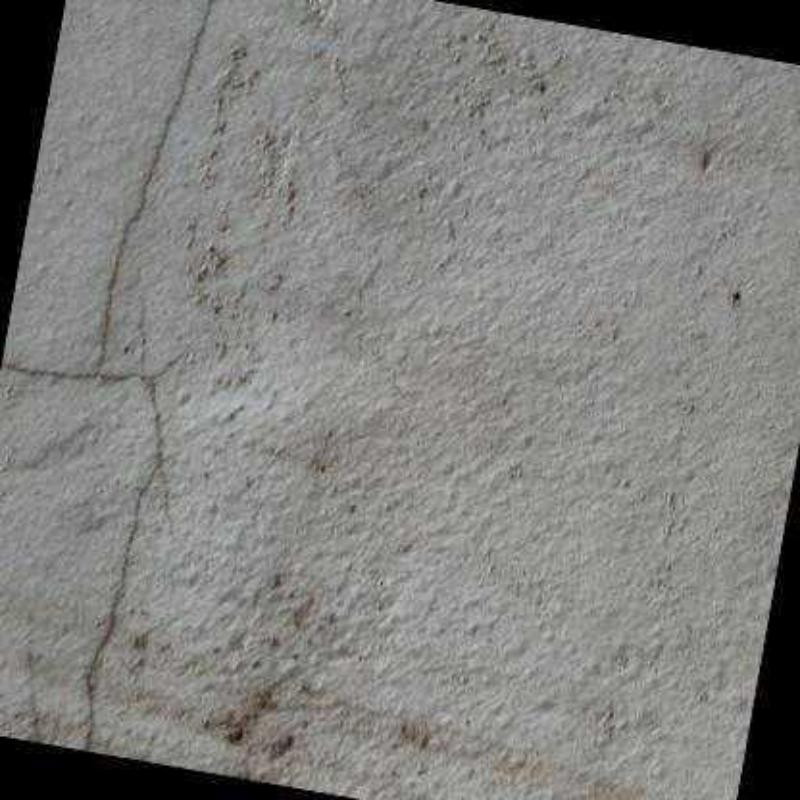pothole: (0, 0, 221, 752), (158, 463, 175, 531), (156, 350, 188, 379), (140, 298, 148, 362)
